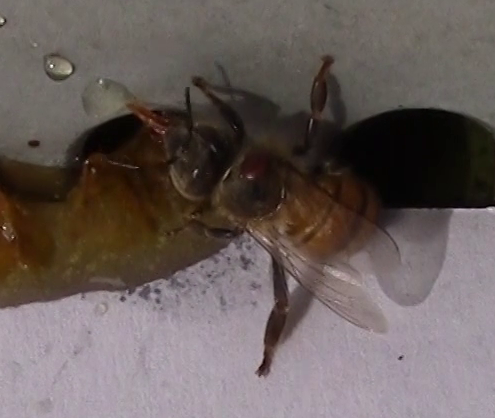Varroa destructor: (235, 150, 272, 183)
